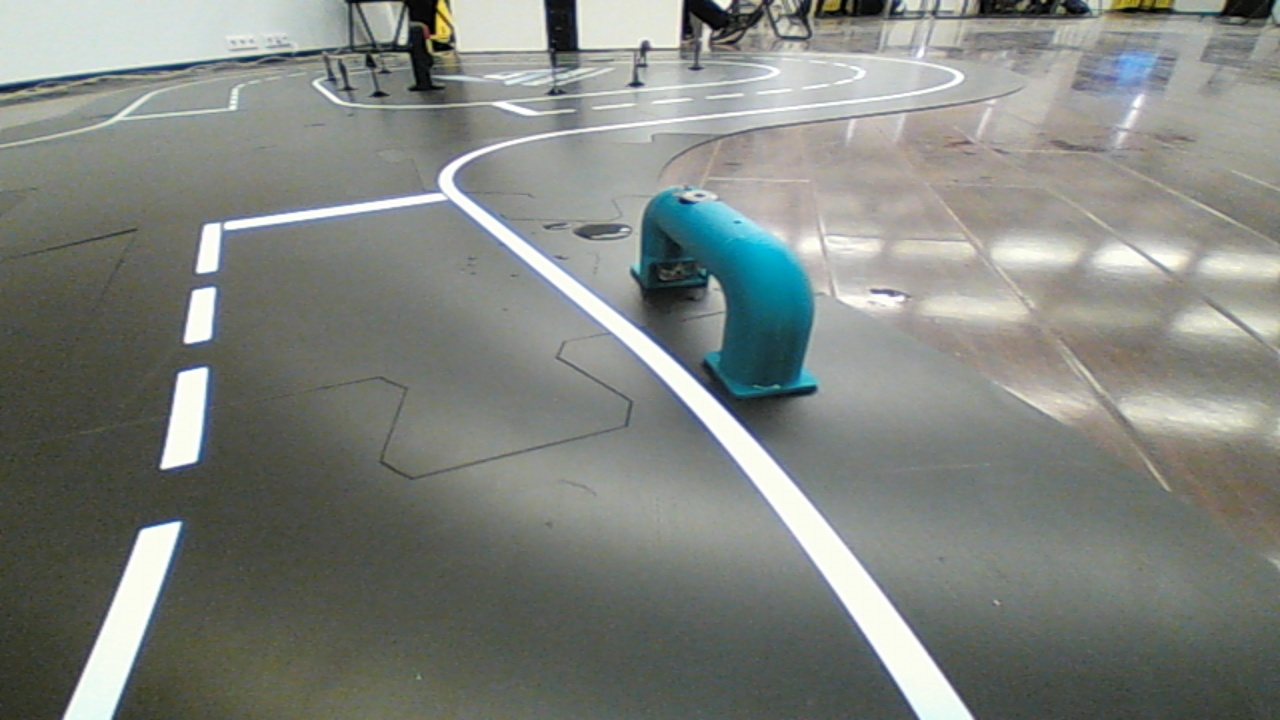Pedestrian crossing: (619, 179, 837, 417)
